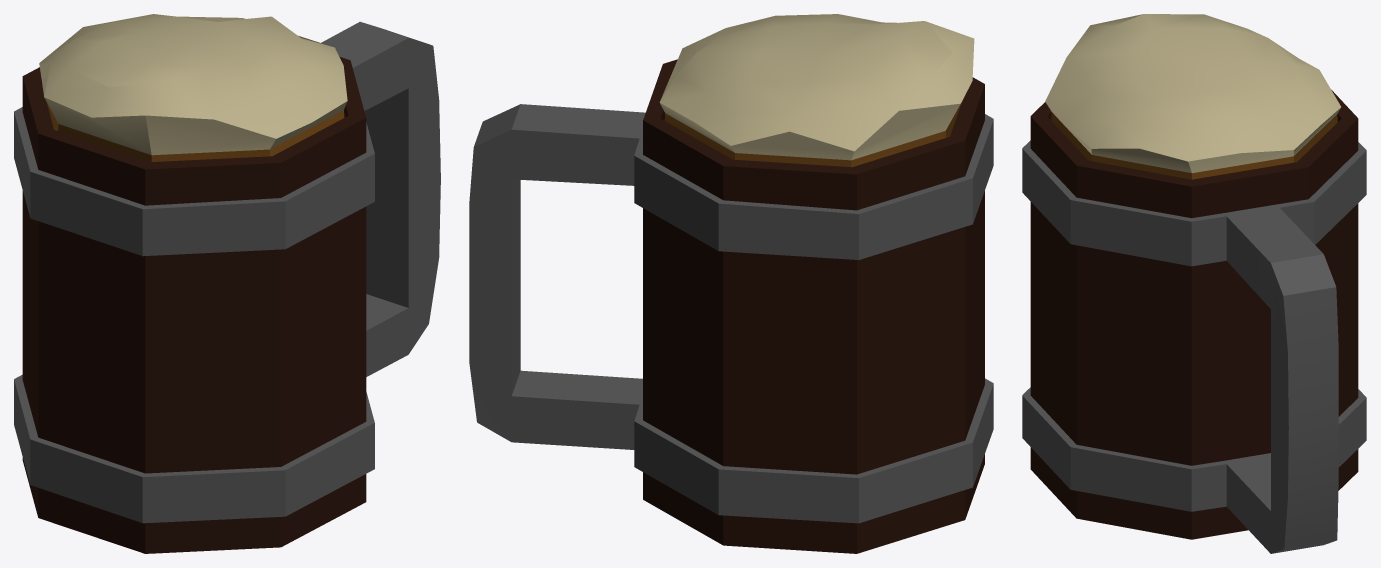
The model's file is Birra.fbx.
3 renders of one model, left to right at view 1: azimuth 30°, elevation 25°; view 2: azimuth 150°, elevation 25°; view 3: azimuth 270°, elevation 25°, orthographic. The views are drawn at different scales.
Parts seen in each view (by area): view 1: Beer.002; view 2: Beer.002; view 3: Beer.002.
Boxes of the visible parts, bbox=[...] form: Beer.002: bbox=[14, 14, 440, 553]; Beer.002: bbox=[469, 14, 993, 553]; Beer.002: bbox=[1022, 14, 1366, 553].
Bounding box in the file's own units: 46.68 × 43.62 × 32.95.
